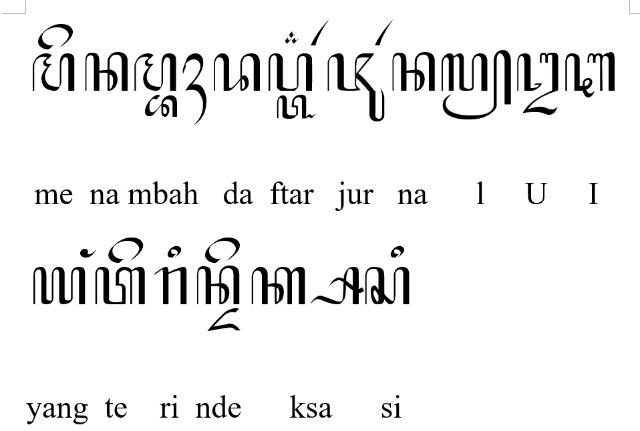-l: (441, 49, 512, 121)
I: (563, 52, 615, 98)
U: (516, 52, 560, 116)
_b: (144, 94, 178, 120)
_d: (207, 308, 241, 332)
_h1: (182, 52, 208, 125)
_r1: (310, 18, 330, 46), (374, 18, 394, 45)
_s: (310, 267, 364, 305)
_t: (276, 94, 316, 120)
alt: (284, 30, 298, 43)
d: (213, 52, 261, 92)
e: (37, 23, 73, 51), (204, 236, 240, 264), (108, 238, 144, 264)
i: (166, 245, 182, 259), (390, 245, 406, 259)
ju: (327, 52, 385, 122)
k: (250, 266, 306, 305)
m: (32, 52, 76, 92), (133, 52, 177, 92)
n: (84, 52, 128, 92), (392, 52, 436, 92), (197, 266, 240, 305)
ng: (79, 248, 97, 258)
p: (266, 53, 314, 93)
r: (154, 266, 188, 305)
s: (366, 266, 410, 306)
t: (95, 266, 147, 305)
y: (33, 266, 86, 305)
